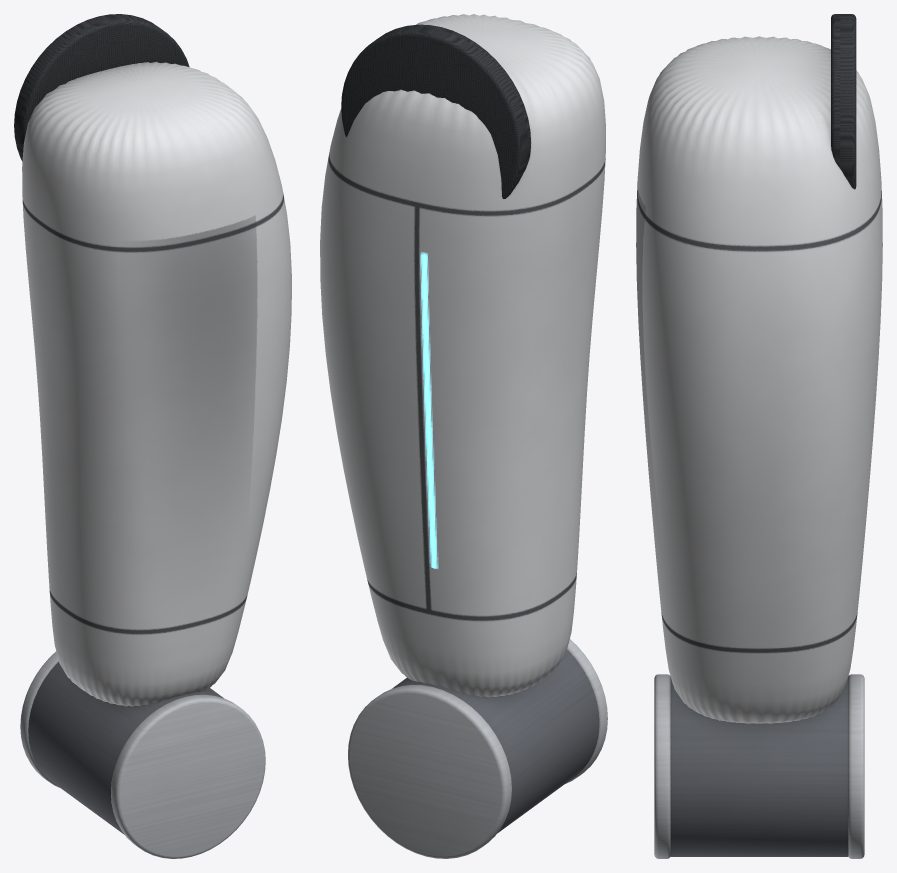
Rendered from left_thigh.glb.
3 views of the same model, side by side, from view 1: azimuth 30°, elevation 25°; view 2: azimuth 150°, elevation 25°; view 3: azimuth 270°, elevation 25° (orthographic). The views are drawn at different scales.
Visible parts, largest first — view 1: left_thigh; view 2: left_thigh; view 3: left_thigh.
Part boxes in pixels (x1,y1,x2,y2): left_thigh: (14, 14, 291, 858); left_thigh: (320, 14, 607, 858); left_thigh: (636, 14, 882, 858).
Bounding box in the file's own units: 0.1359 × 0.434 × 0.1174.
Materials: 1 (1 with a texture image).
